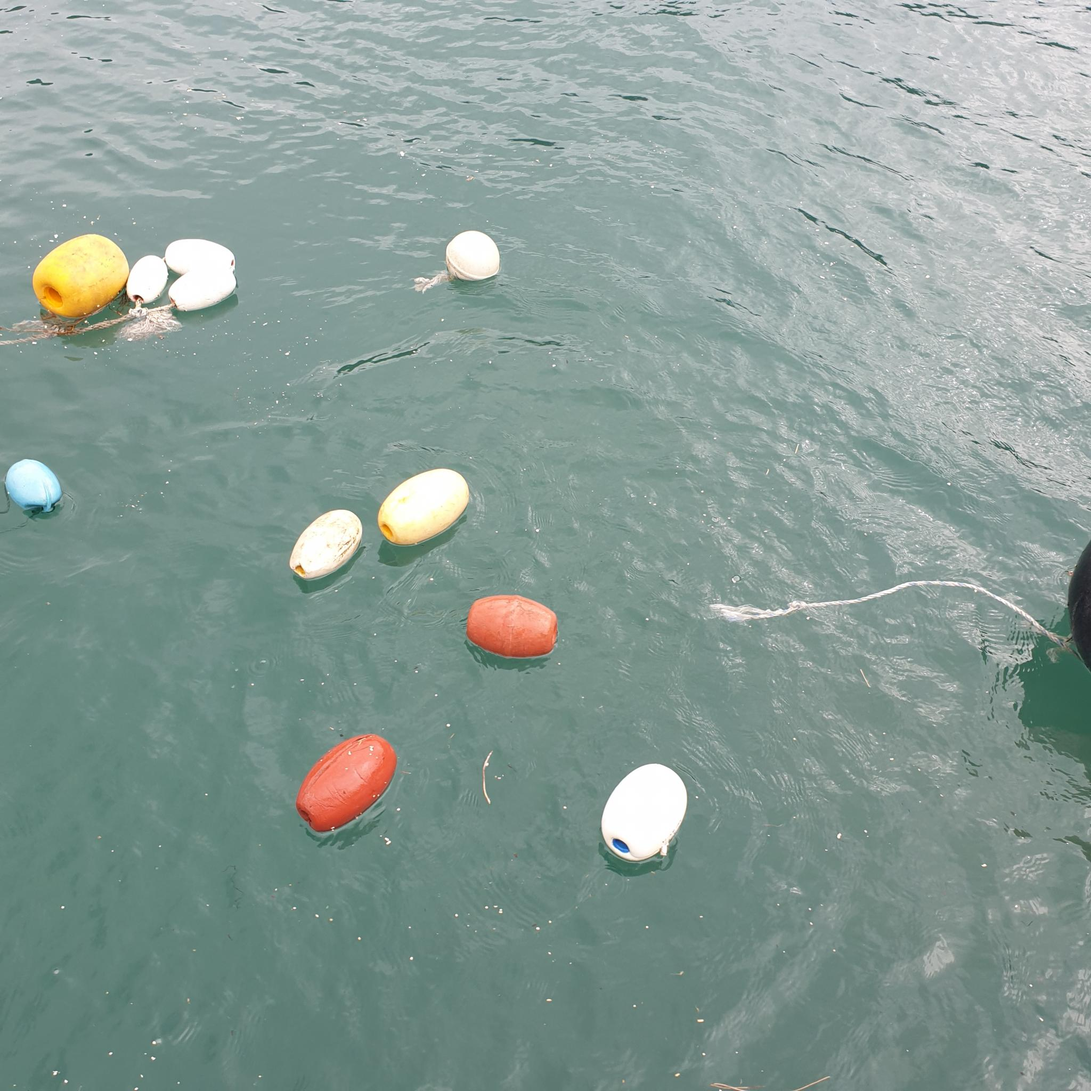sampah_terapung: (706, 580, 1069, 671), (296, 735, 397, 833), (1, 297, 184, 347), (601, 764, 688, 862), (33, 234, 130, 319), (378, 468, 470, 547), (467, 595, 558, 659), (290, 510, 364, 580), (5, 460, 62, 513), (1069, 541, 1091, 675), (168, 271, 237, 312), (446, 231, 501, 281), (166, 239, 236, 276), (126, 256, 169, 304), (415, 271, 452, 295), (1, 481, 11, 516)
